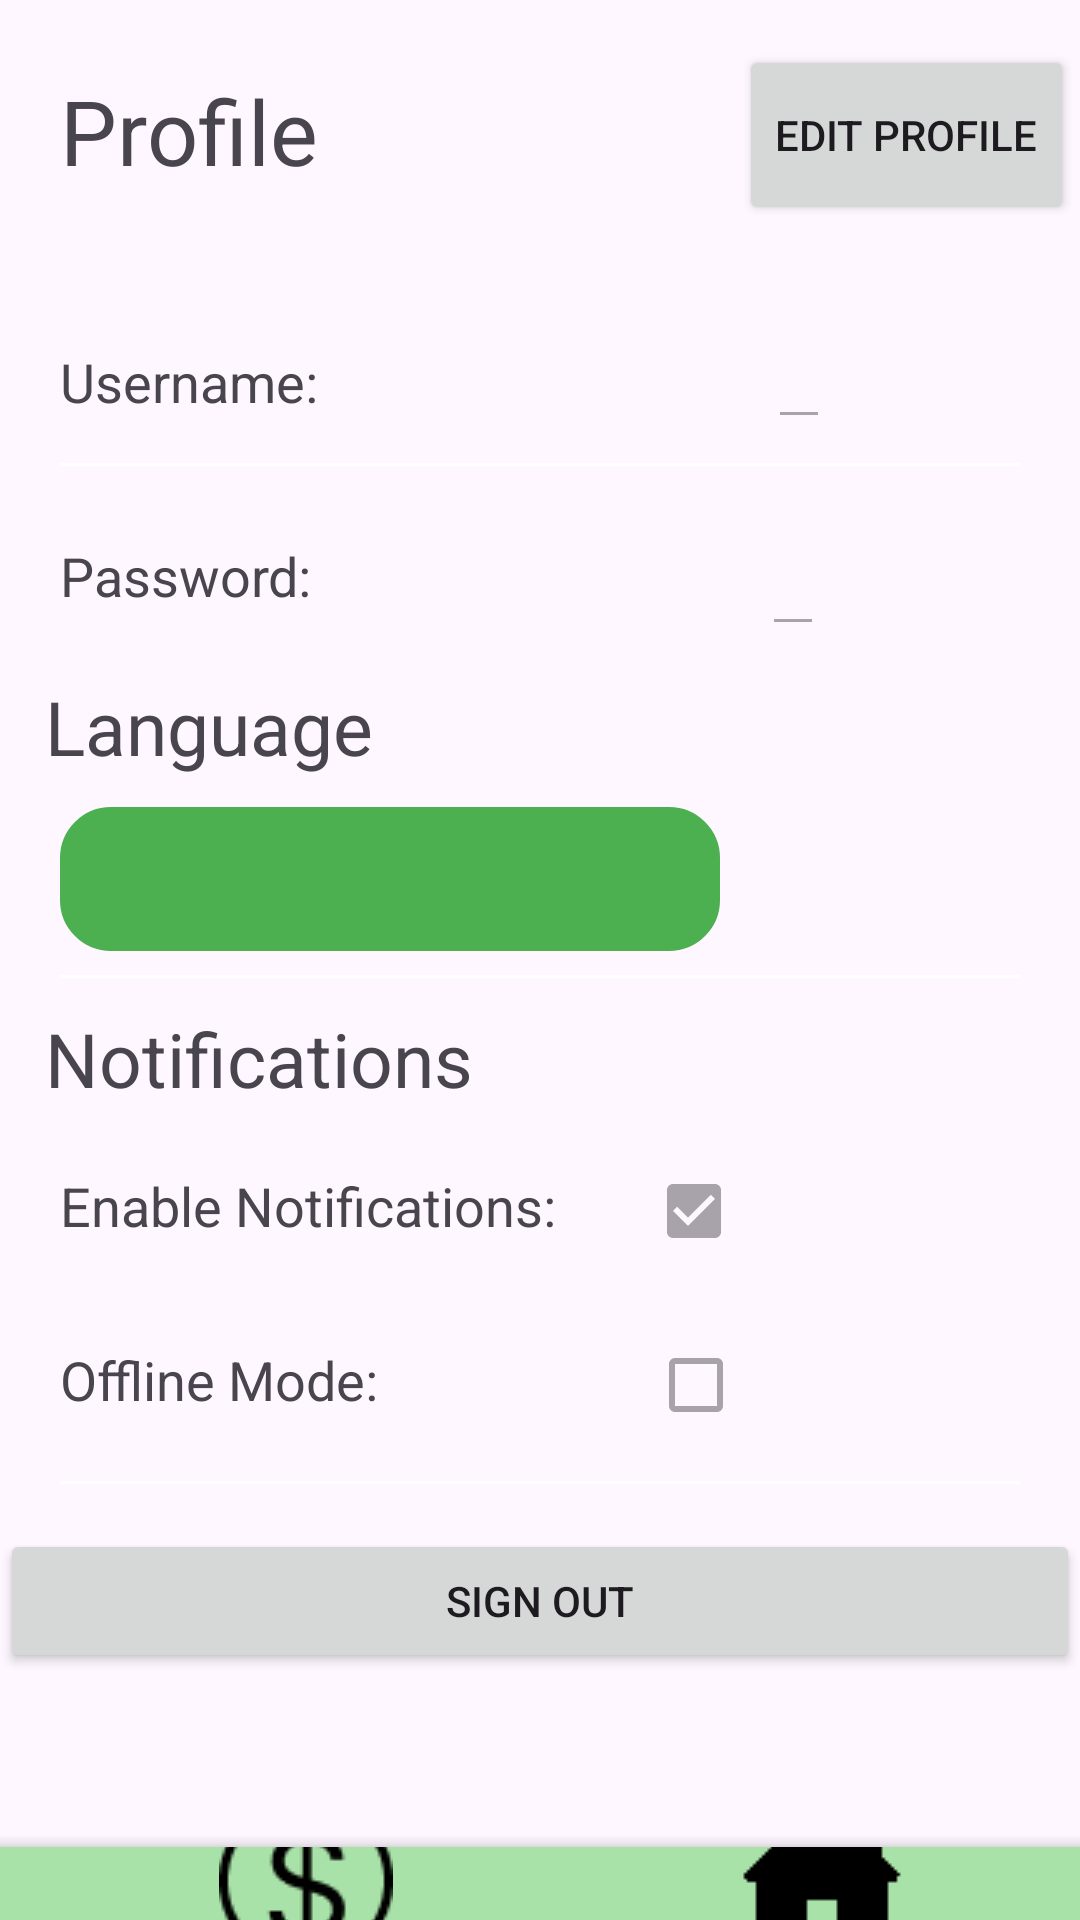

Screen size 1080px x 1920px. Icon name, then its center in pixels as point (x, y):
converter: point (306, 1883)
home: point (822, 1883)
